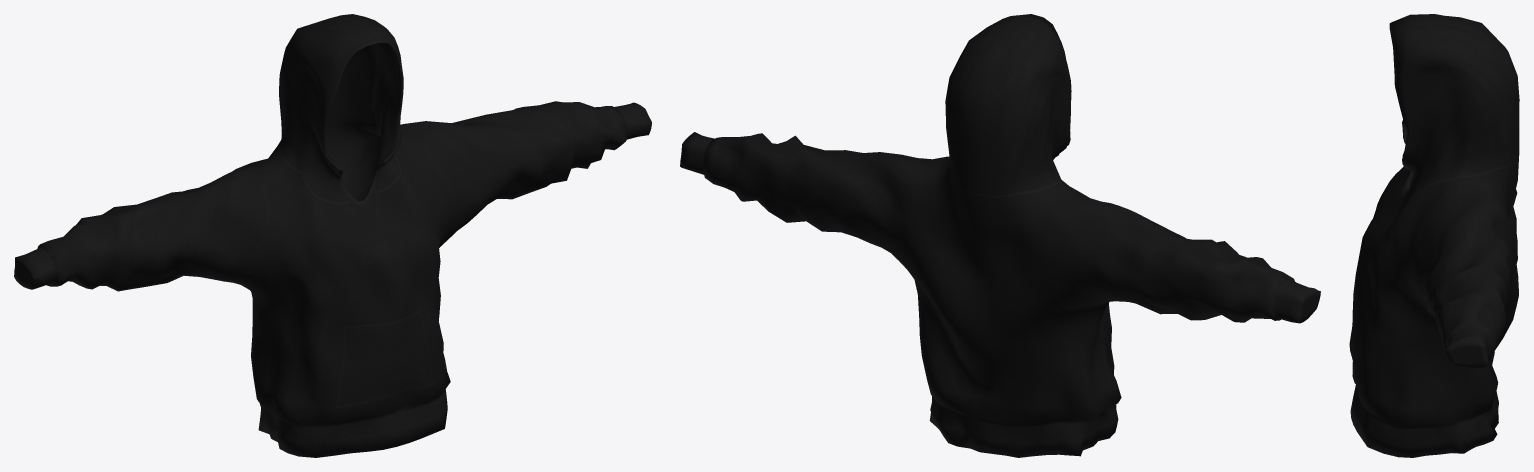
Rendered from Low-poly_Hoodie.glb.
3 views of the same model, side by side, from view 1: azimuth 30°, elevation 25°; view 2: azimuth 150°, elevation 25°; view 3: azimuth 270°, elevation 25° (orthographic).
Visible parts, largest first — view 1: hudiLP_TT_checker_512x512_UV_GRID_0; view 2: hudiLP_TT_checker_512x512_UV_GRID_0; view 3: hudiLP_TT_checker_512x512_UV_GRID_0.
Boxes of the visible parts, box(x1,y1,x2,y2) form: hudiLP_TT_checker_512x512_UV_GRID_0: box(14, 14, 651, 457); hudiLP_TT_checker_512x512_UV_GRID_0: box(680, 14, 1320, 457); hudiLP_TT_checker_512x512_UV_GRID_0: box(1349, 14, 1519, 457).
Size of the model in its own units: 20.2 by 12.59 by 4.82.
Materials: 1 (1 with a texture image).
